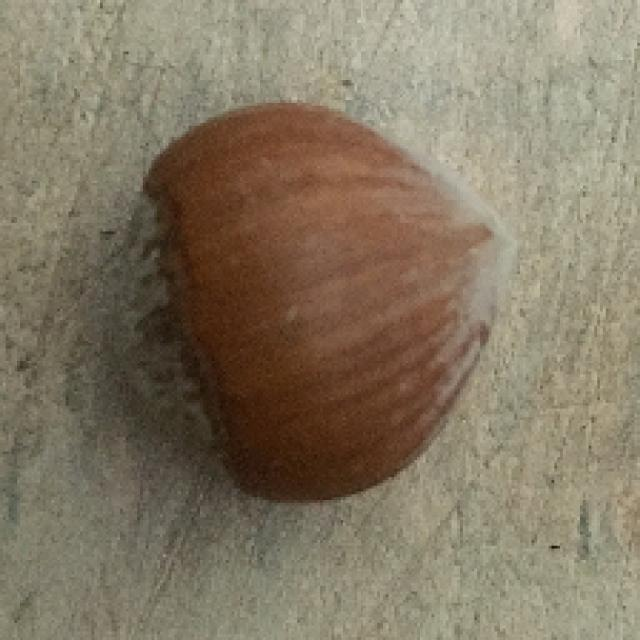qualityHazelnut: (114, 96, 521, 513)
